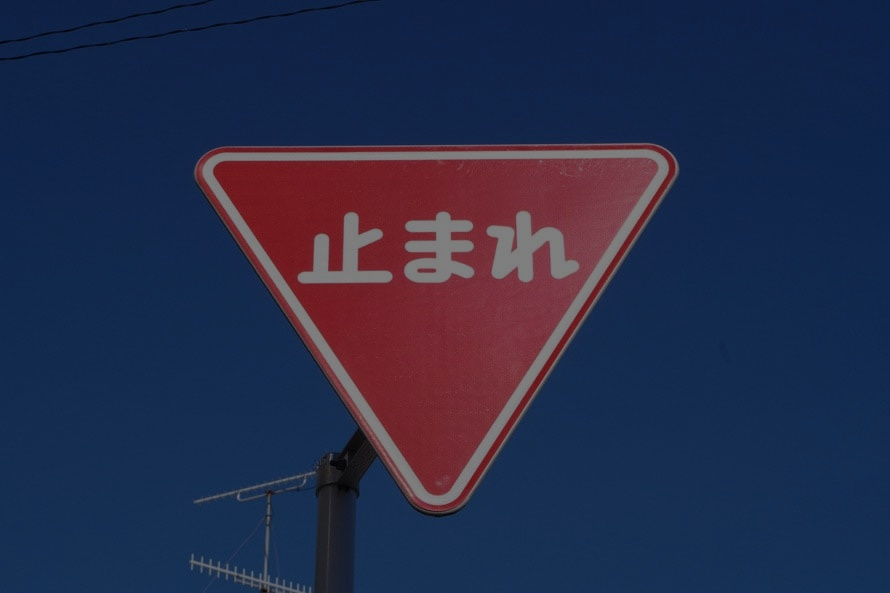Regulatory_sign_triangle: (189, 133, 675, 517)
